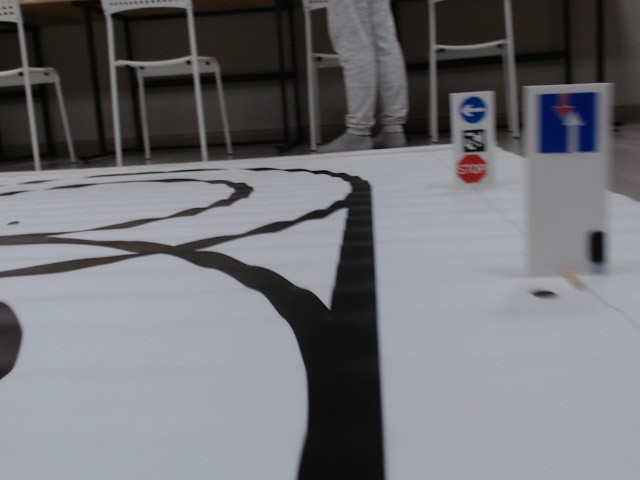Stop: (455, 154, 487, 182)
priority_movement: (533, 87, 602, 160)
